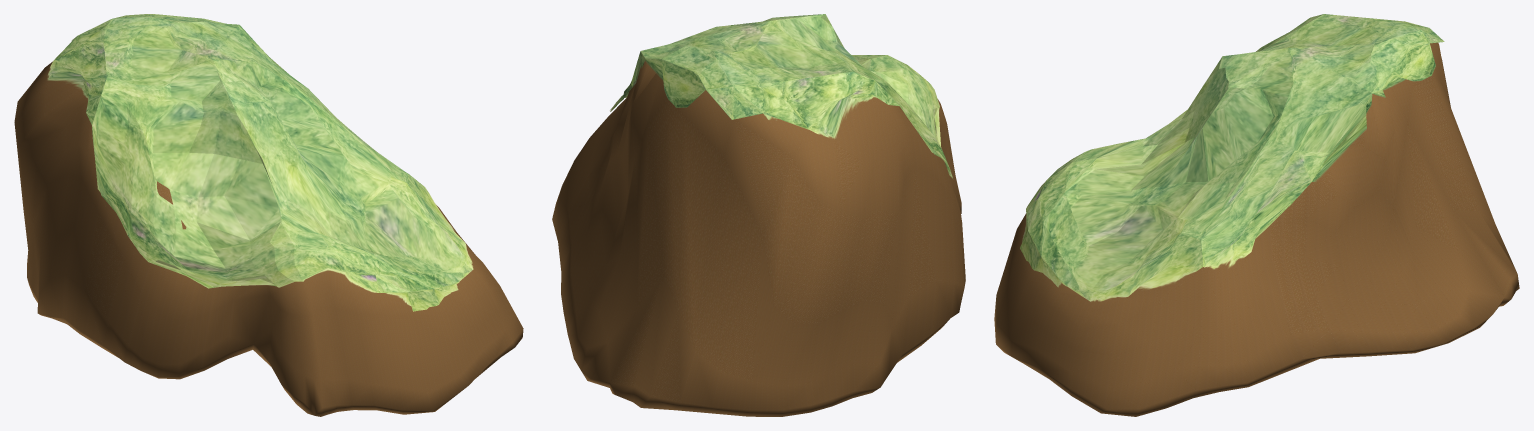
Rendered from isla_noreste.glb.
The picture shows the model from 3 angles, left to right: view 1: azimuth 30°, elevation 25°; view 2: azimuth 150°, elevation 25°; view 3: azimuth 270°, elevation 25°; orthographic projection. The views are drawn at different scales.
Visible parts, largest first — view 1: pastito_base_plana2, isla_imposible_cruzando.002; view 2: isla_imposible_cruzando.002, pastito_base_plana2; view 3: isla_imposible_cruzando.002, pastito_base_plana2.
Part boxes in pixels (left/top/right/bottom): pastito_base_plana2: left=47, top=14, right=473, bottom=311; isla_imposible_cruzando.002: left=14, top=61, right=523, bottom=416; isla_imposible_cruzando.002: left=552, top=60, right=965, bottom=416; pastito_base_plana2: left=610, top=14, right=952, bottom=178; isla_imposible_cruzando.002: left=994, top=42, right=1519, bottom=416; pastito_base_plana2: left=1020, top=14, right=1444, bottom=301.
Size of what is drawn, in the model's own units: 58.65 by 42.15 by 73.65.
2 materials, 2 textured.
